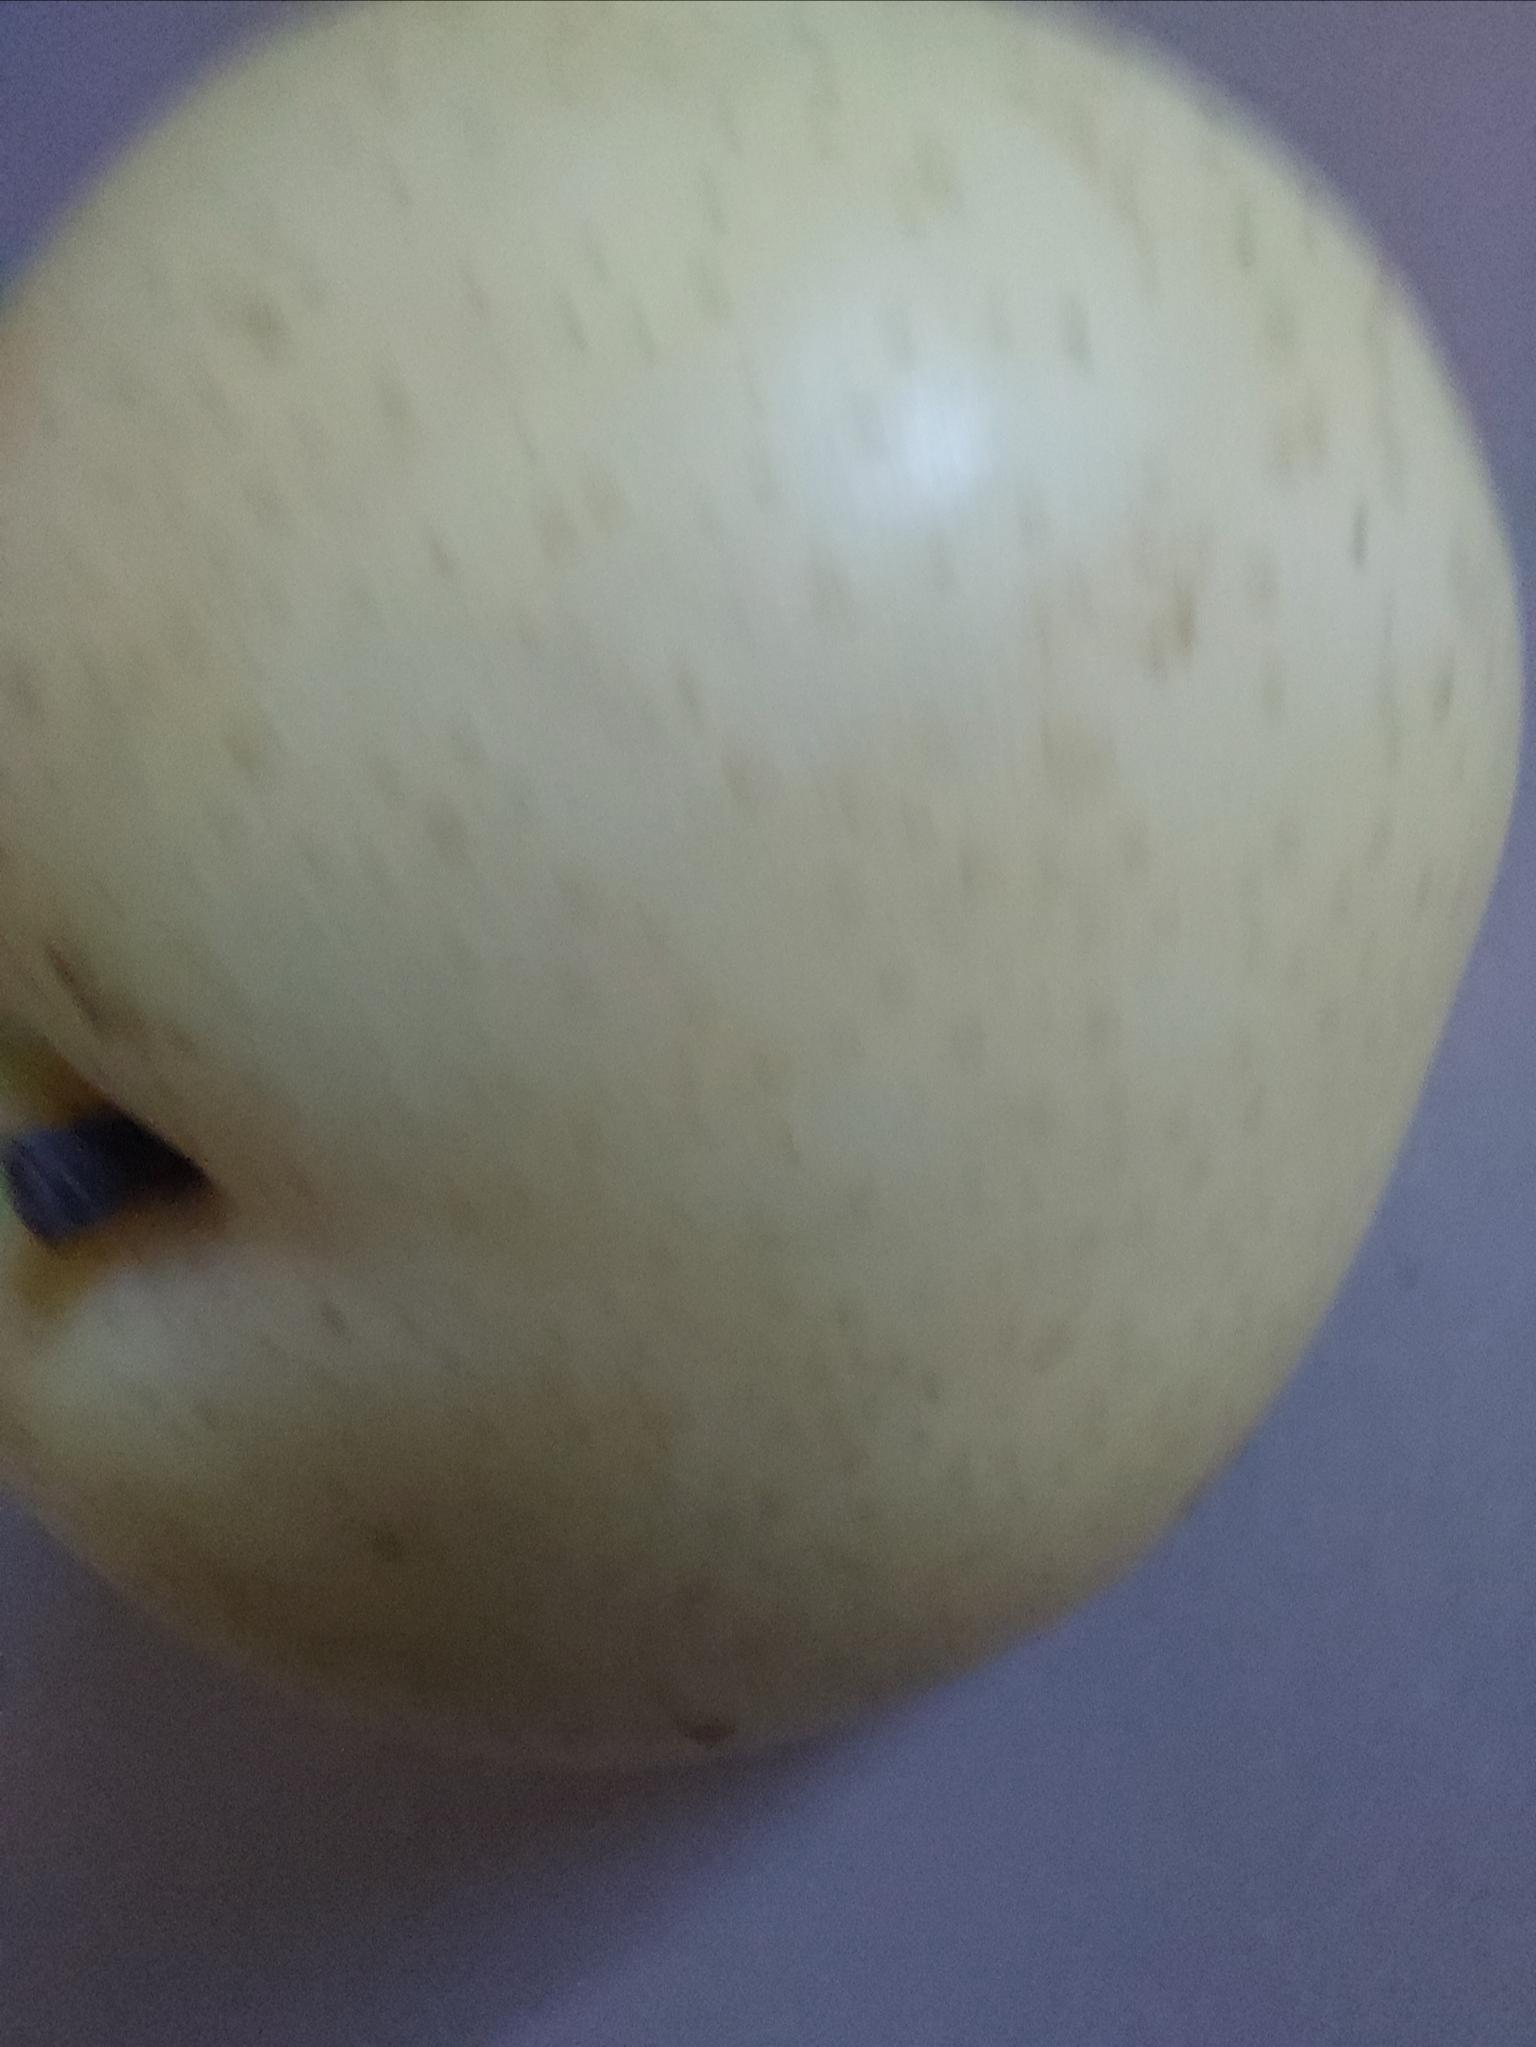Good Pear: (0, 0, 1536, 1837)
